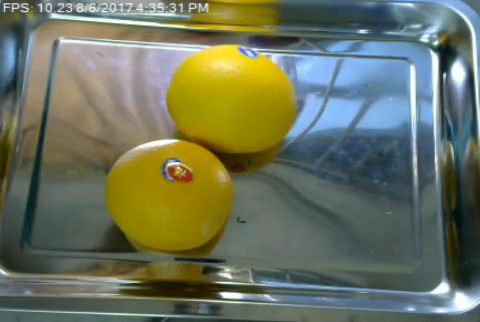Orange: (104, 138, 233, 253), (166, 43, 298, 151)
